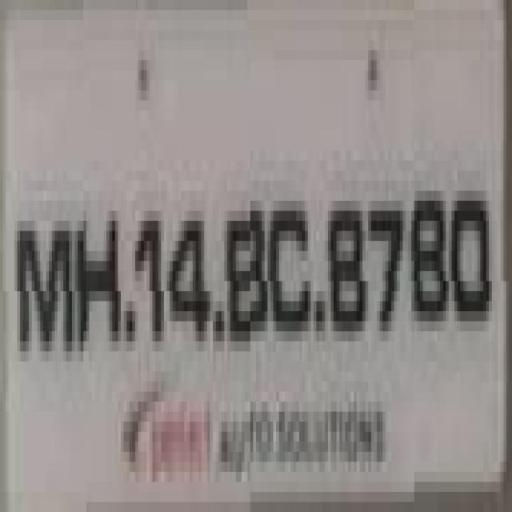number plate: (7, 20, 479, 461)
